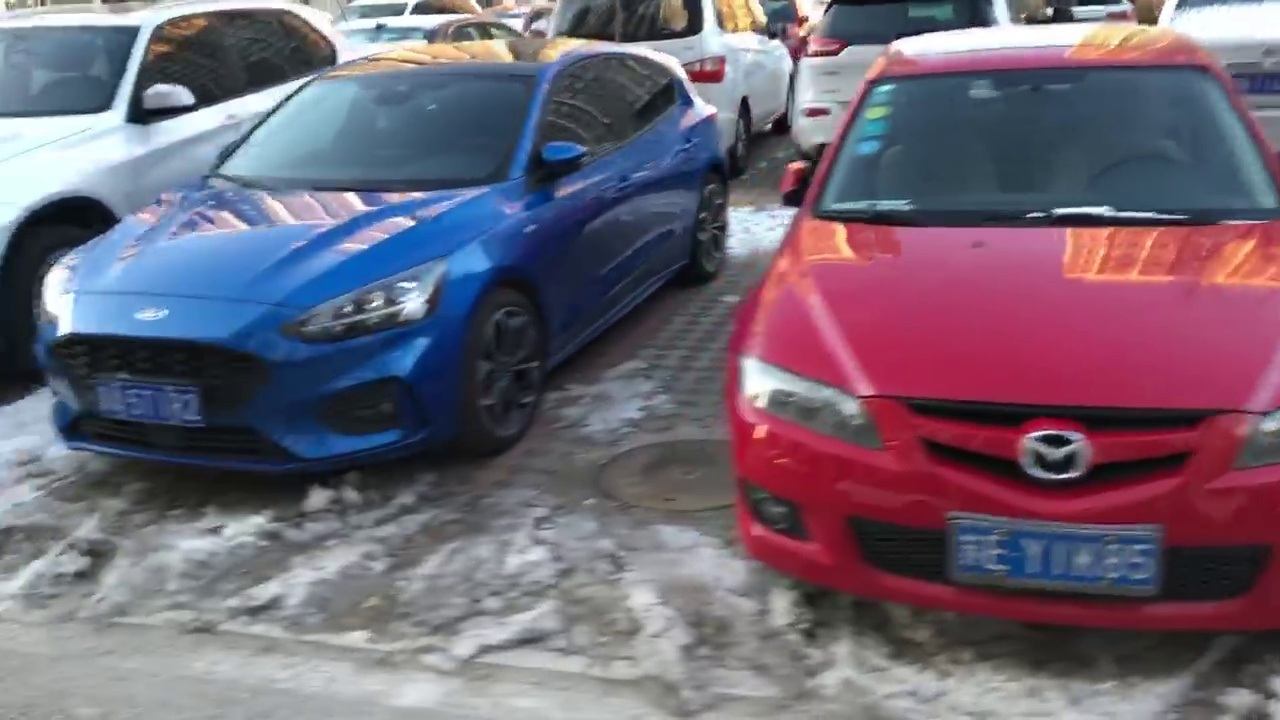plate: (952, 521, 1166, 582), (90, 382, 218, 425)
